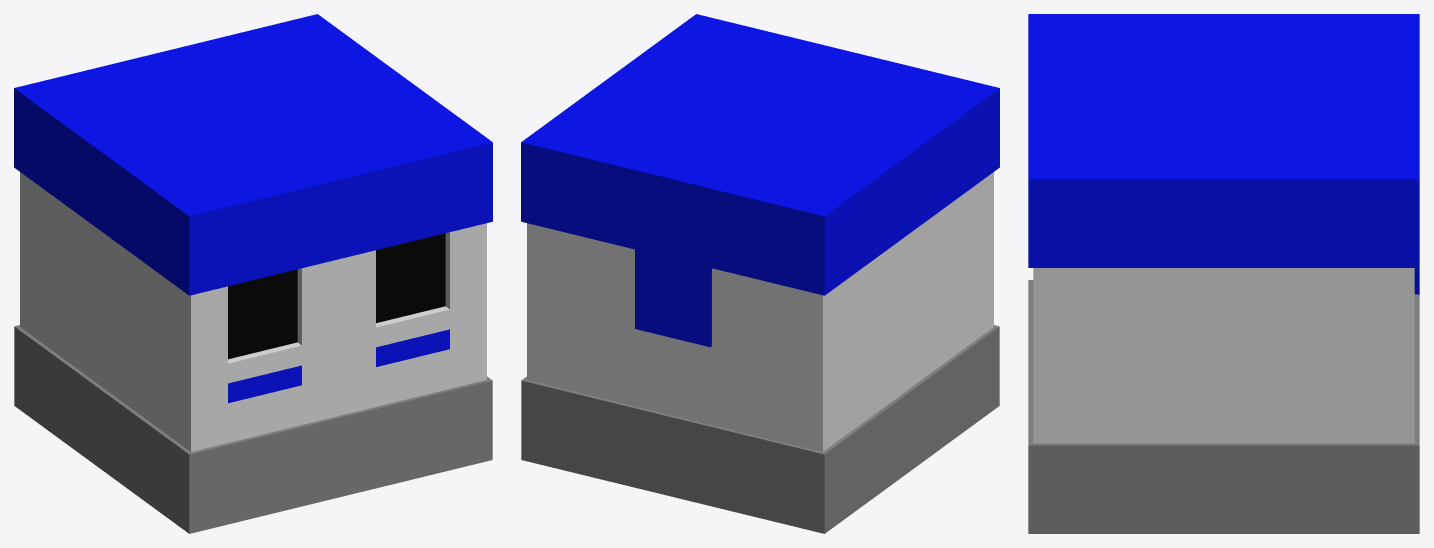
The model's file is Crip.fbx.
The picture shows the model from 3 angles, left to right: view 1: azimuth 30°, elevation 25°; view 2: azimuth 150°, elevation 25°; view 3: azimuth 270°, elevation 25°; orthographic projection. The views are drawn at different scales.
Parts seen in each view (by area): view 1: NomadicHorde-(Blu); view 2: NomadicHorde-(Blu); view 3: NomadicHorde-(Blu).
Boxes of the visible parts, bbox=[...] form: NomadicHorde-(Blu): bbox=[14, 14, 492, 533]; NomadicHorde-(Blu): bbox=[521, 14, 999, 533]; NomadicHorde-(Blu): bbox=[1028, 14, 1419, 533].
Bounding box in the file's own units: 200 × 200 × 200.
